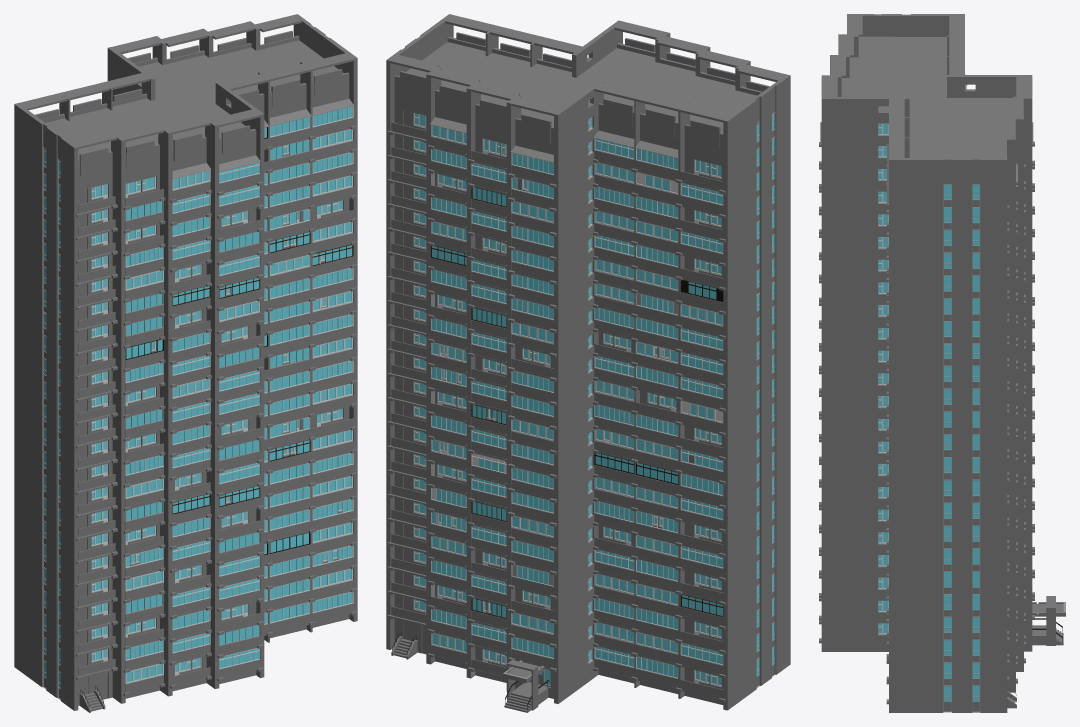
The picture shows the model from 3 angles, left to right: view 1: azimuth 30°, elevation 25°; view 2: azimuth 150°, elevation 25°; view 3: azimuth 270°, elevation 25°; orthographic projection. The views are drawn at different scales.
Parts seen in each view (by area): view 1: stena020; view 2: stena020; view 3: stena020.
Part boxes in pixels (box(x1,y1,x2,y2)): stena020: box(14, 14, 357, 712); stena020: box(386, 14, 790, 712); stena020: box(819, 14, 1065, 712).
Size of the model in its own units: 1835 by 3240 by 1310.
